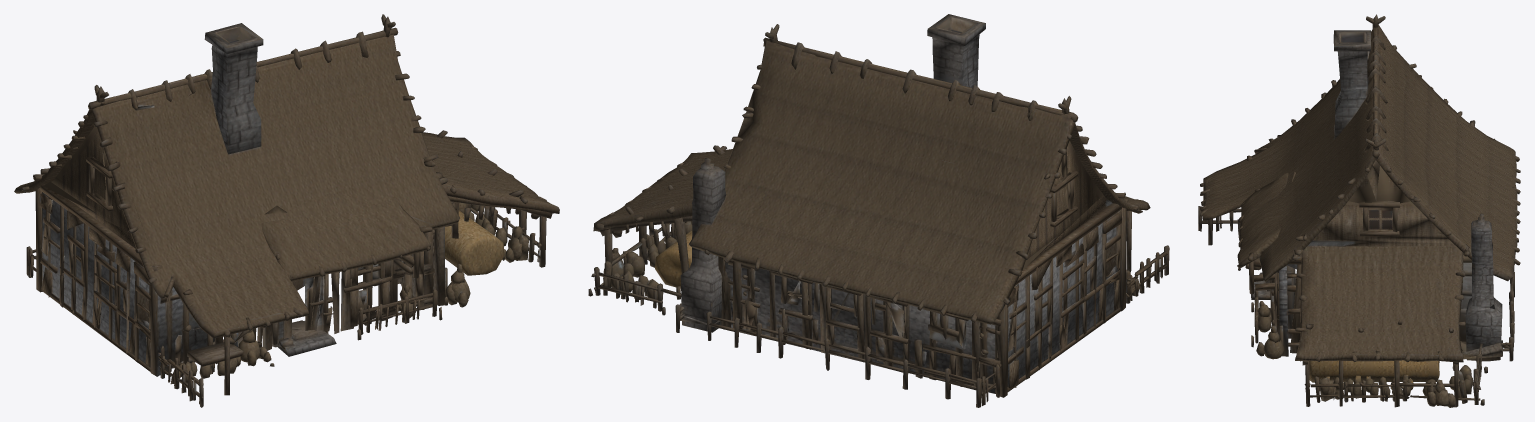
The model's file is Farmhouse.glb.
3 renders of one model, left to right at view 1: azimuth 30°, elevation 25°; view 2: azimuth 150°, elevation 25°; view 3: azimuth 270°, elevation 25°, orthographic. The views are drawn at different scales.
Bounding box in the file's own units: 1 × 0.6367 × 0.7502.
1 material, 1 textured.
